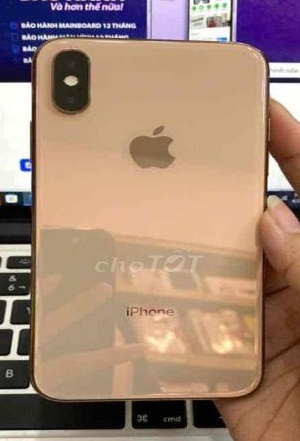scratch: (82, 51, 96, 72)
